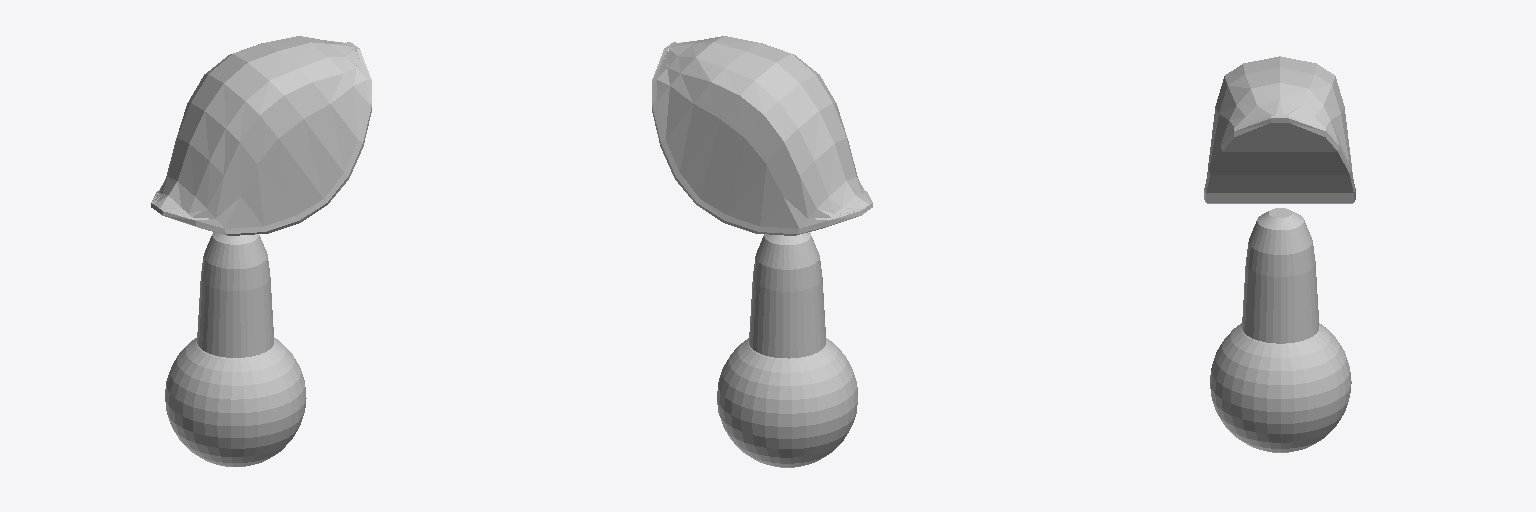
The model's file is Knight_handLeft.obj.
The picture shows the model from 3 angles: view 1: azimuth 30°, elevation 25°; view 2: azimuth 150°, elevation 25°; view 3: azimuth 270°, elevation 25°; orthographic projection.
Parts seen in each view (by area): view 1: 腕_左_円柱.002; view 2: 腕_左_円柱.002; view 3: 腕_左_円柱.002.
Part boxes in pixels (x1,y1,x2,y2): 腕_左_円柱.002: (151, 36, 371, 466); 腕_左_円柱.002: (652, 36, 872, 467); 腕_左_円柱.002: (1204, 56, 1355, 452).
Size of the model in its own units: 0.9889 by 1.9 by 0.6507.